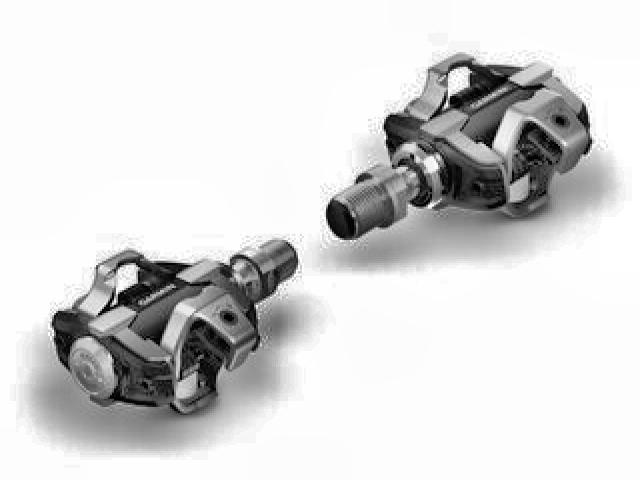pedal: (324, 42, 594, 244), (46, 237, 304, 423)
